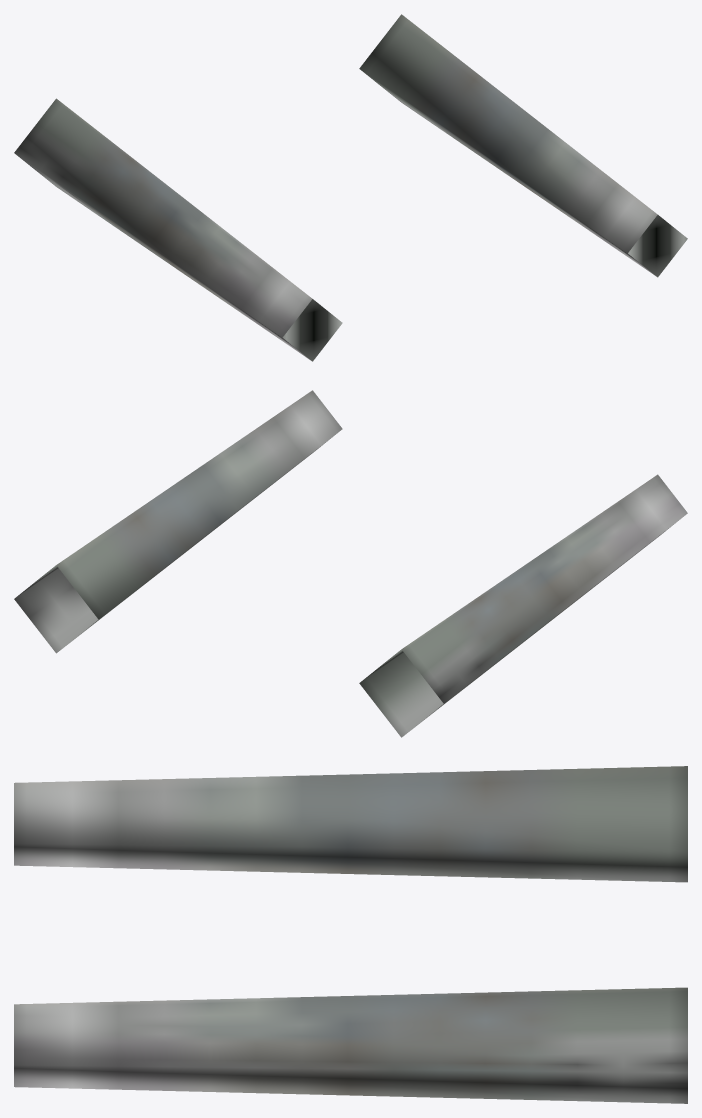
The model's file is ywing_weapon1_s01_l1.fbx.
3 views of the same model, one above another, from view 1: azimuth 30°, elevation 25°; view 2: azimuth 150°, elevation 25°; view 3: azimuth 270°, elevation 25° (orthographic). The views are drawn at different scales.
Parts seen in each view (by area): view 1: mesh_node; view 2: mesh_node; view 3: mesh_node.
Part boxes in pixels (x1,y1,x2,y2): mesh_node: (14, 14, 687, 361); mesh_node: (14, 390, 687, 737); mesh_node: (14, 766, 687, 1103).
Size of the model in its own units: 1.11 by 0.219 by 1.15.
Materials: 1 (1 with a texture image).
